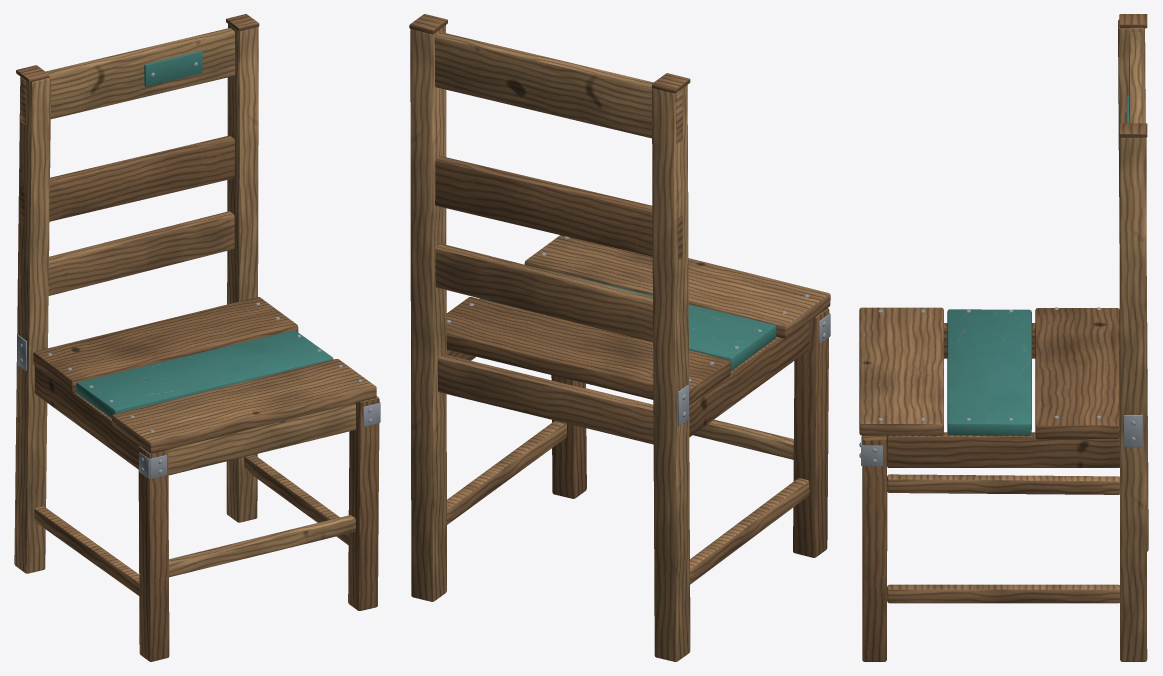
File: chair.glb
3 views of the same model, side by side, from view 1: azimuth 30°, elevation 25°; view 2: azimuth 150°, elevation 25°; view 3: azimuth 270°, elevation 25° (orthographic). The views are drawn at different scales.
Parts seen in each view (by area): view 1: ChairBody; view 2: ChairBody; view 3: ChairBody.
Boxes of the visible parts, x1=… form: ChairBody: x1=14, y1=14, x2=380, y2=661; ChairBody: x1=409, y1=14, x2=830, y2=661; ChairBody: x1=859, y1=14, x2=1148, y2=661.
Bounding box in the file's own units: 0.4926 × 0.9942 × 0.4924.
7 materials, 7 textured.
